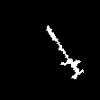double_crochet: (47, 26, 82, 78)
